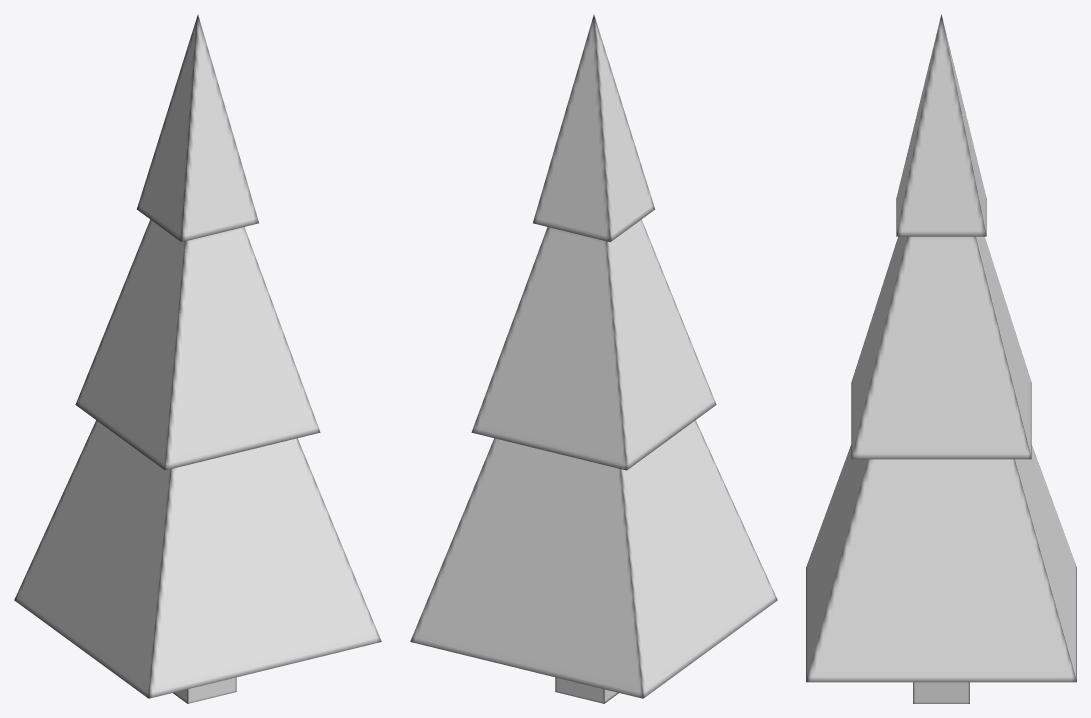
The model's file is Tree-02.fbx.
The picture shows the model from 3 angles, left to right: view 1: azimuth 30°, elevation 25°; view 2: azimuth 150°, elevation 25°; view 3: azimuth 270°, elevation 25°; orthographic projection.
Parts seen in each view (by area): view 1: Tree_02; view 2: Tree_02; view 3: Tree_02.
Boxes of the visible parts, x1,y1,x2,y2 form: Tree_02: [14, 15, 381, 703]; Tree_02: [410, 15, 777, 703]; Tree_02: [806, 14, 1076, 703].
Bounding box in the file's own units: 0.8125 × 2.24 × 0.8125.
